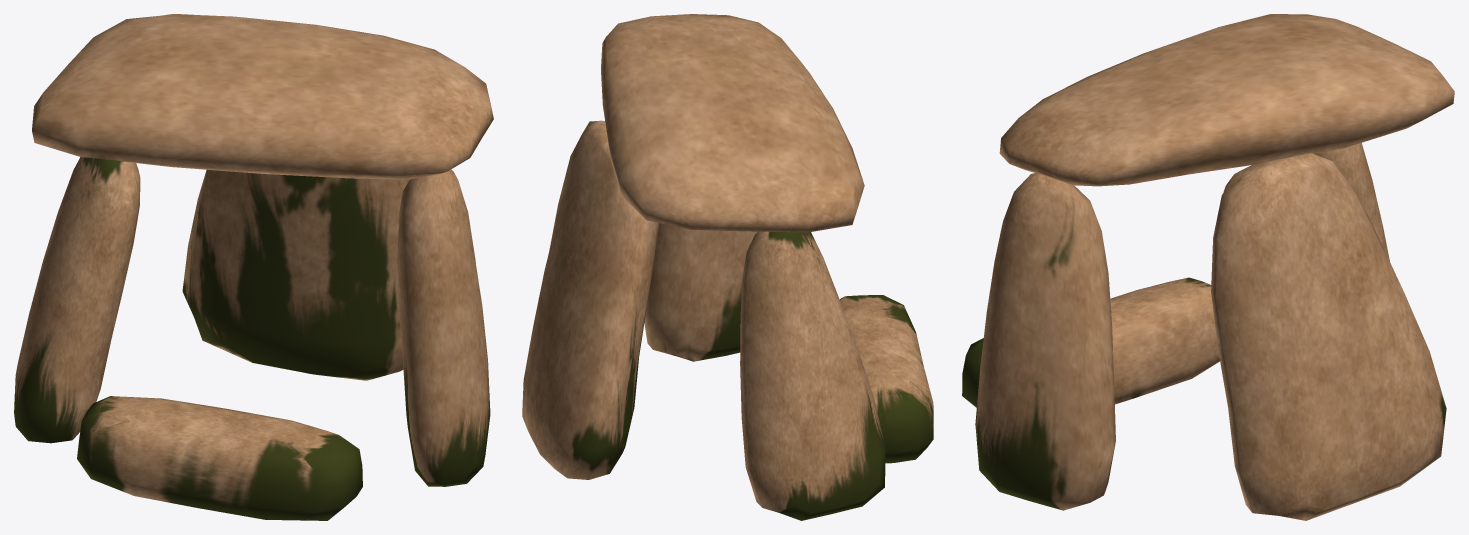
File: dolmen.fbx
3 renders of one model, left to right at view 1: azimuth 30°, elevation 25°; view 2: azimuth 150°, elevation 25°; view 3: azimuth 270°, elevation 25°, orthographic. The views are drawn at different scales.
Visible parts, largest first — view 1: DolmenyGuerreroPiedra:CARAA:pCube9; view 2: DolmenyGuerreroPiedra:CARAA:pCube9; view 3: DolmenyGuerreroPiedra:CARAA:pCube9.
Boxes of the visible parts, x1=… form: DolmenyGuerreroPiedra:CARAA:pCube9: x1=14, y1=14, x2=493, y2=520; DolmenyGuerreroPiedra:CARAA:pCube9: x1=522, y1=14, x2=933, y2=520; DolmenyGuerreroPiedra:CARAA:pCube9: x1=962, y1=14, x2=1454, y2=520.
Size of the model in its own units: 5.01 by 4.82 by 5.52.
